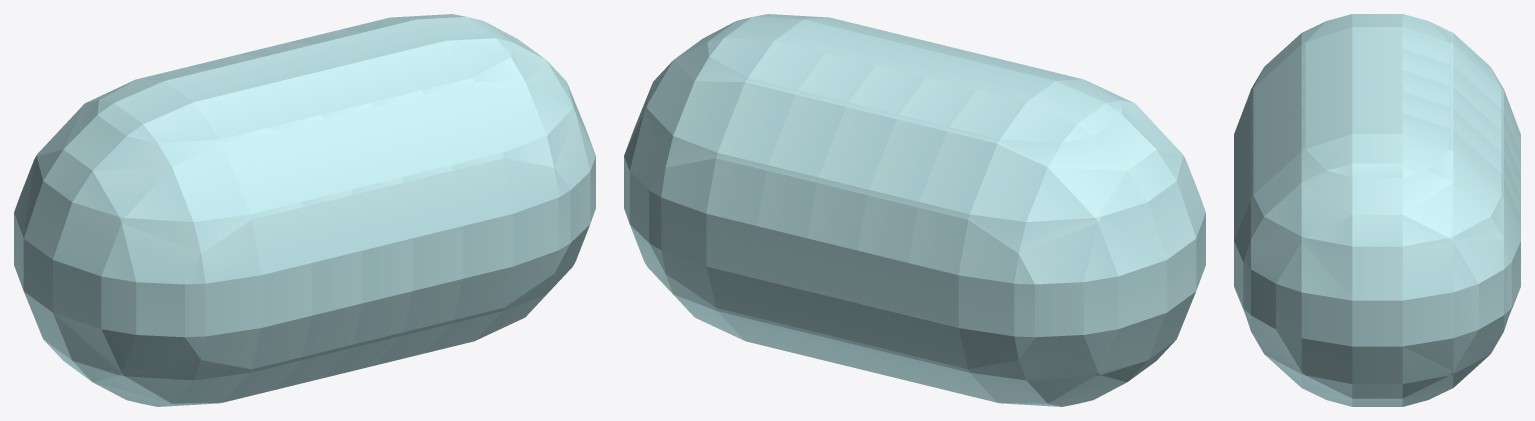
Rendered from domeGlass.obj.
3 views of the same model, side by side, from view 1: azimuth 30°, elevation 25°; view 2: azimuth 150°, elevation 25°; view 3: azimuth 270°, elevation 25° (orthographic). The views are drawn at different scales.
Visible parts, largest first — view 1: Mball.002; view 2: Mball.002; view 3: Mball.002.
Part boxes in pixels (left/top/right/bottom): Mball.002: left=14, top=14, right=595, bottom=406; Mball.002: left=624, top=14, right=1205, bottom=406; Mball.002: left=1234, top=14, right=1520, bottom=406.
Size of the model in its own units: 69.5 by 37.24 by 37.24.
